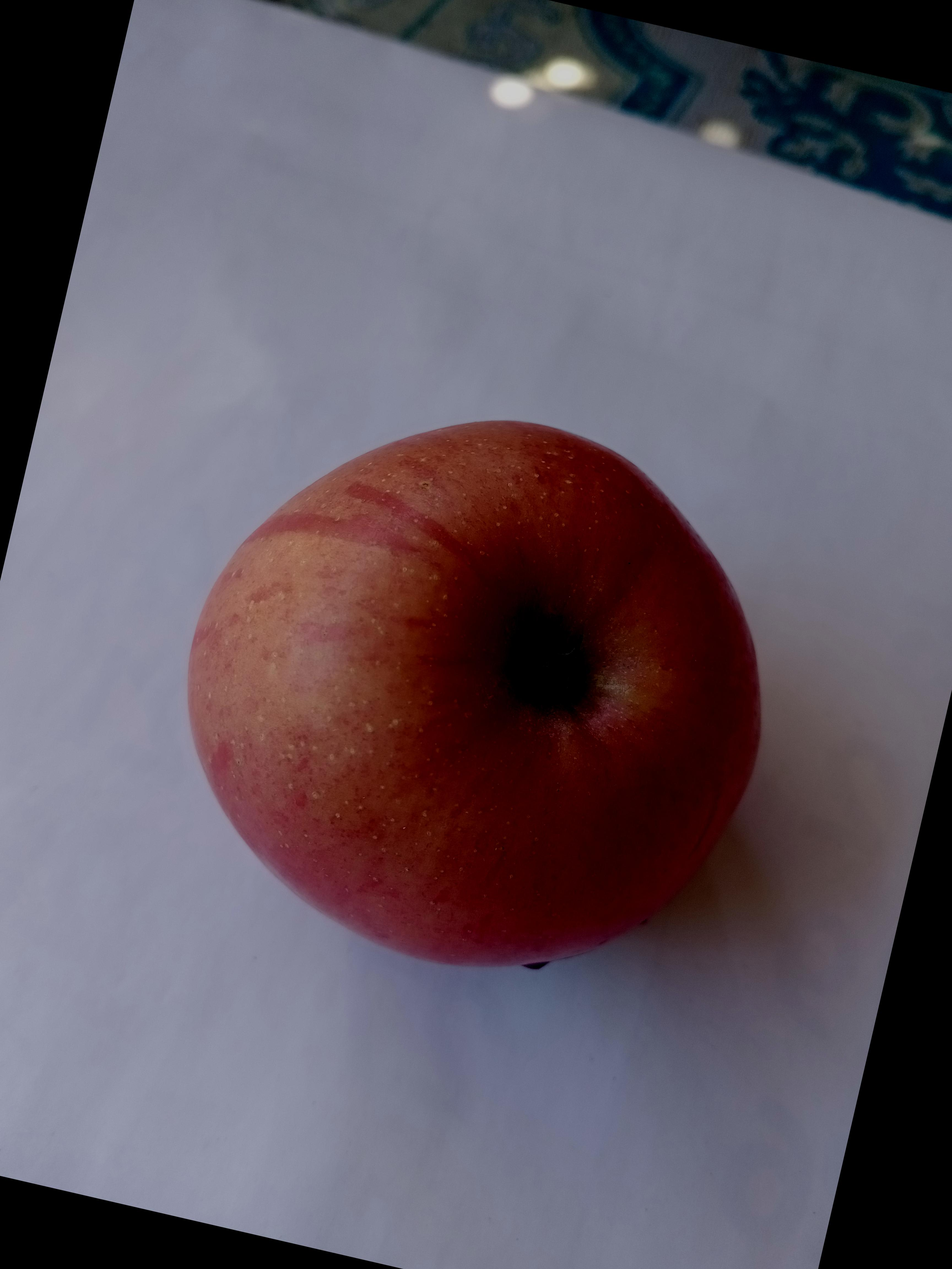Apple Ripe: (312, 223, 952, 938)
